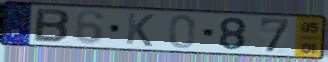0: (167, 13, 197, 50)
6: (74, 9, 106, 46)
7: (259, 17, 292, 55)
8: (218, 16, 249, 51)
B: (32, 7, 72, 44)
K: (125, 12, 157, 48)
